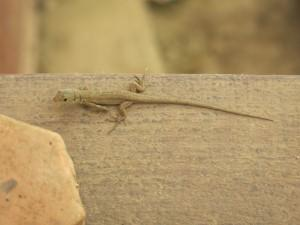lizard: (54, 66, 274, 127)
